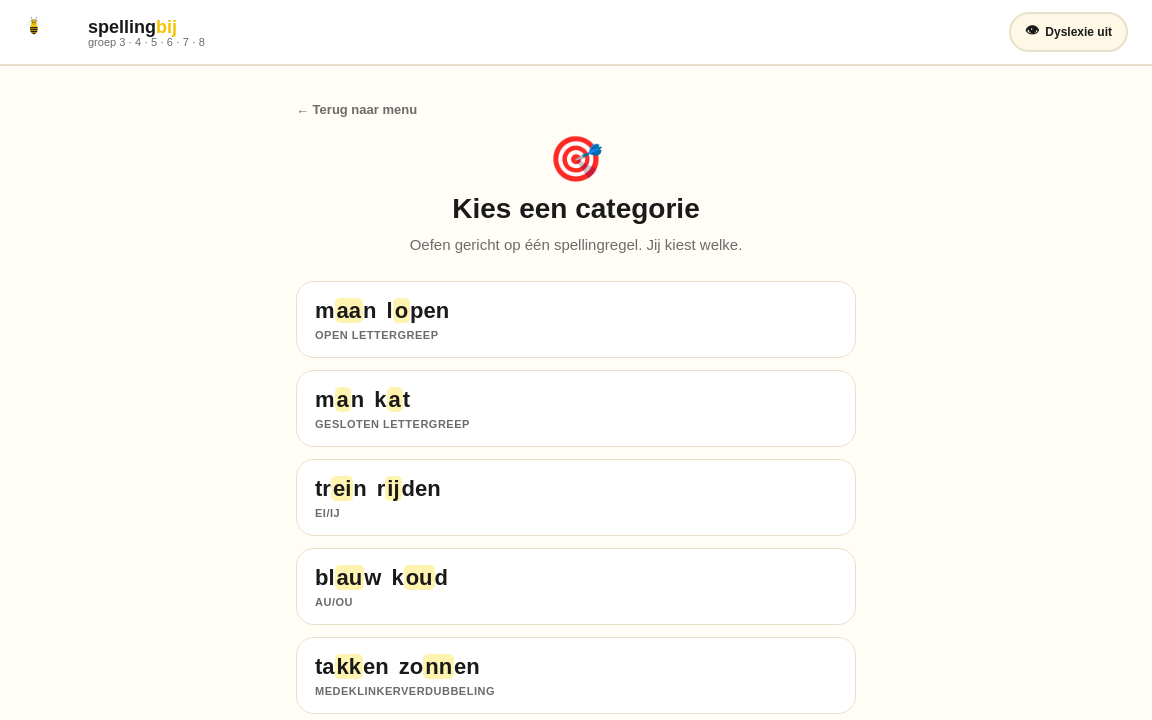
Test: een categorie kiezen start een sessie van woorden uit precies die categorie
The width and height of the screenshot is (1152, 720).
Click the text "ei/ij" at [328, 513], box 315,507 -> 340,519
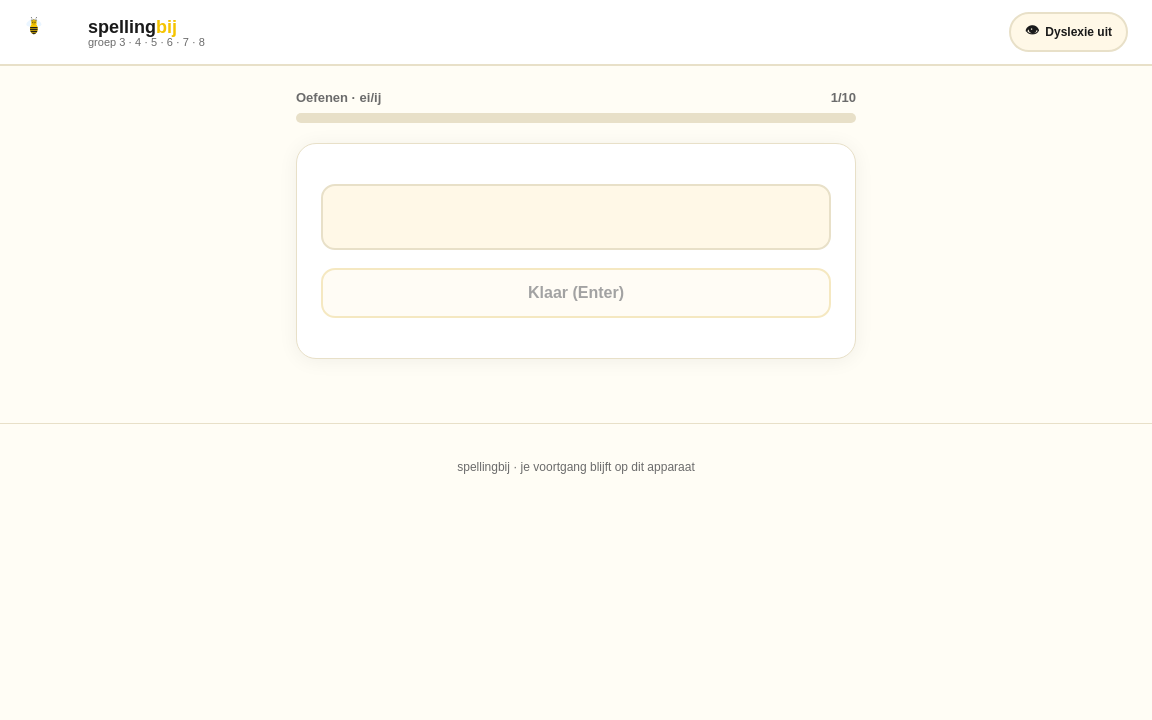
expect the text "Oefenen · ei/ij" is shown: met, box 296,90 -> 381,105
Type "blij" into the field at [576, 217], box 321,184 -> 831,250
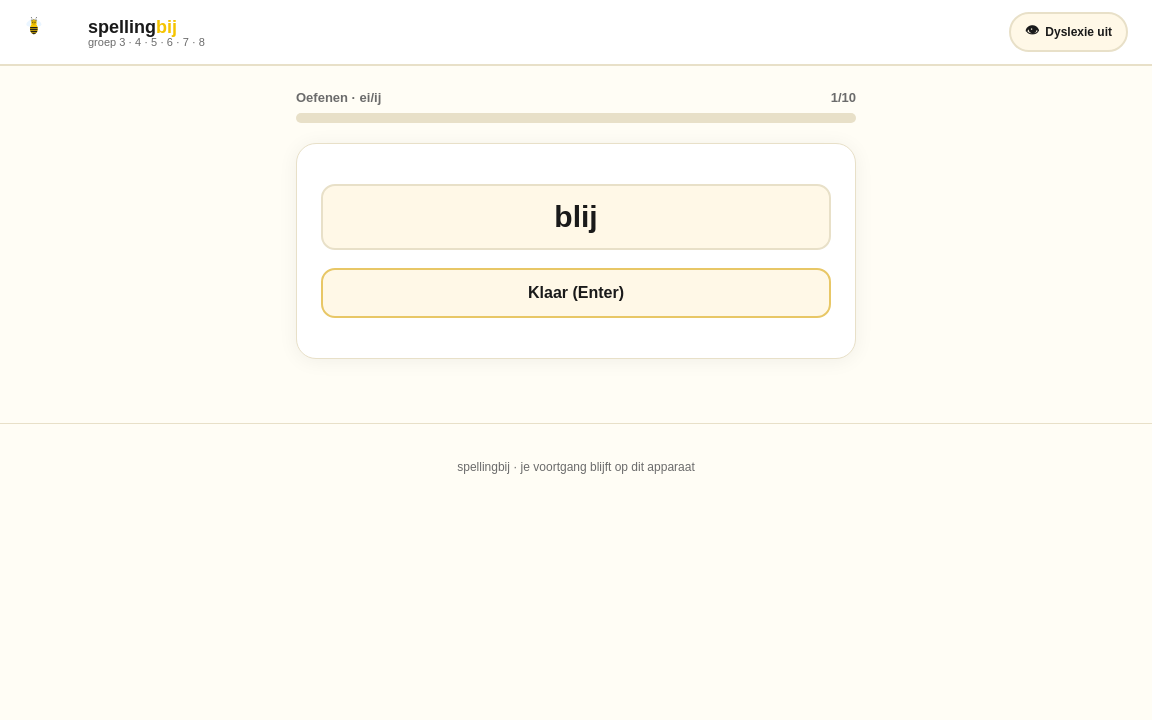
Click the button "Klaar (Enter)" at [576, 293], box 321,268 -> 831,318
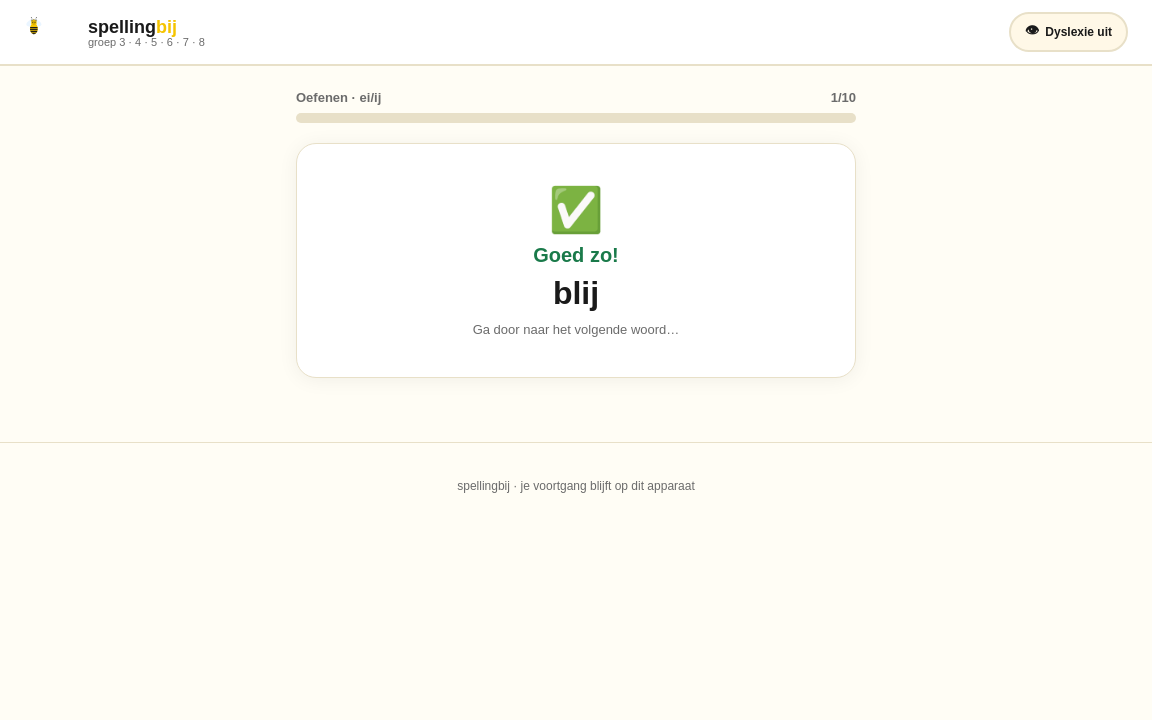
expect the text "Goed zo!" is shown: met, box 533,244 -> 619,266
